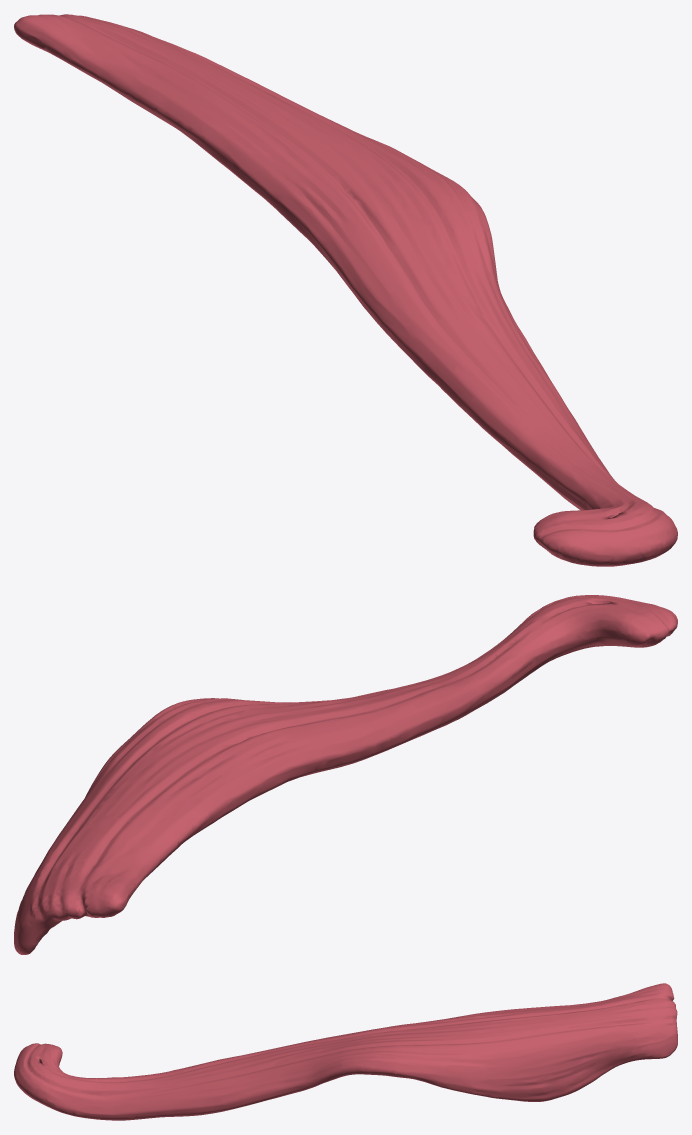
The picture shows the model from 3 angles, top to bottom: view 1: azimuth 30°, elevation 25°; view 2: azimuth 150°, elevation 25°; view 3: azimuth 270°, elevation 25°; orthographic projection. The views are drawn at different scales.
Visible parts, largest first — view 1: 左侧腭咽肌; view 2: 左侧腭咽肌; view 3: 左侧腭咽肌.
Part boxes in pixels (<box>): 左侧腭咽肌: <box>14,14,677,566</box>; 左侧腭咽肌: <box>14,595,677,954</box>; 左侧腭咽肌: <box>14,983,677,1120</box>.
Size of the model in its own units: 0.0302 by 0.0225 by 0.1297.
